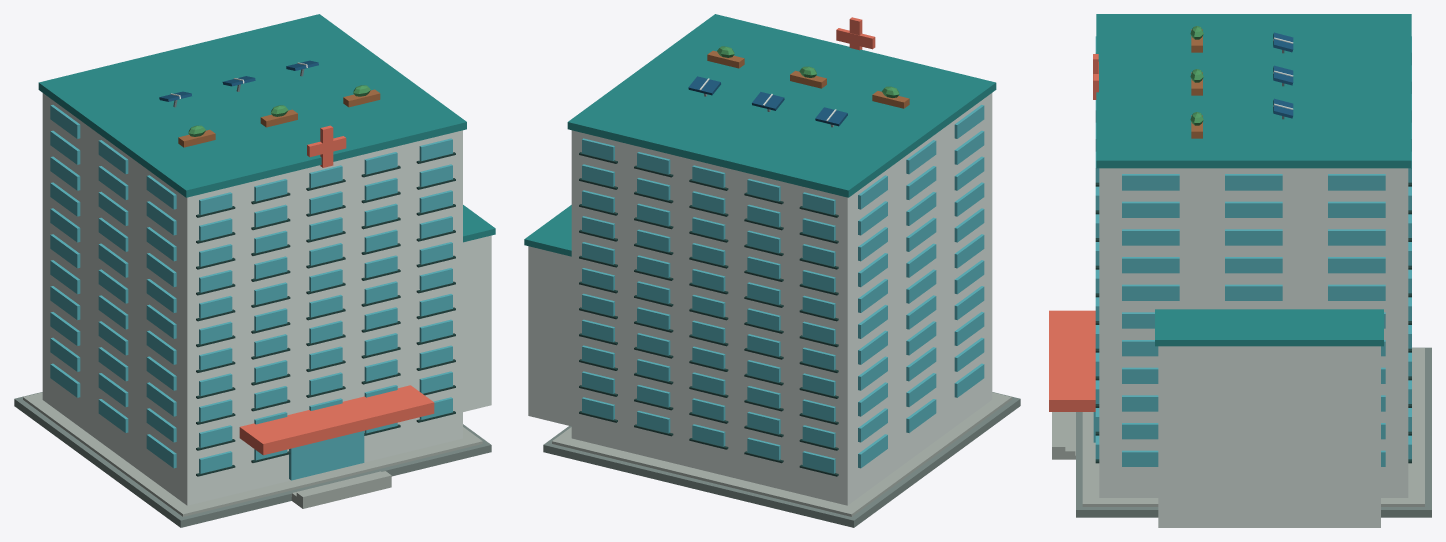
File: hospital_lv4.glb
3 views of the same model, side by side, from view 1: azimuth 30°, elevation 25°; view 2: azimuth 150°, elevation 25°; view 3: azimuth 270°, elevation 25° (orthographic). The views are drawn at different scales.
Visible parts, largest first — view 1: white, glass, teal, concrete, coral, dark, pavement, wood, solar; view 2: white, glass, teal, dark, pavement, concrete, solar, wood, coral; view 3: white, teal, glass, concrete, coral, pavement, solar, wood, dark.
Boxes of the visible parts, box(x1,y1,x2,y2) form: white: box(42, 62, 491, 505); glass: box(50, 105, 452, 480); teal: box(38, 14, 495, 242); concrete: box(23, 392, 482, 516); coral: box(239, 125, 434, 455); dark: box(196, 152, 455, 476); pavement: box(14, 392, 491, 527); wood: box(178, 89, 380, 147); solar: box(159, 60, 318, 101); white: box(528, 78, 992, 505); glass: box(582, 104, 984, 473); teal: box(524, 14, 996, 256); dark: box(579, 152, 838, 476); pavement: box(543, 392, 1020, 527); concrete: box(552, 392, 1011, 516); solar: box(688, 76, 847, 126); wood: box(707, 50, 909, 108); coral: box(836, 17, 875, 50); white: box(1099, 37, 1408, 527); teal: box(1096, 14, 1411, 346); glass: box(1093, 36, 1411, 466); concrete: box(1052, 348, 1424, 506); coral: box(1049, 54, 1098, 411); pavement: box(1076, 347, 1431, 517); solar: box(1273, 32, 1293, 118); wood: box(1191, 29, 1202, 138); dark: box(1095, 182, 1411, 463).
Bounding box in the file's own units: 11.1 × 10.72 × 9.79.
